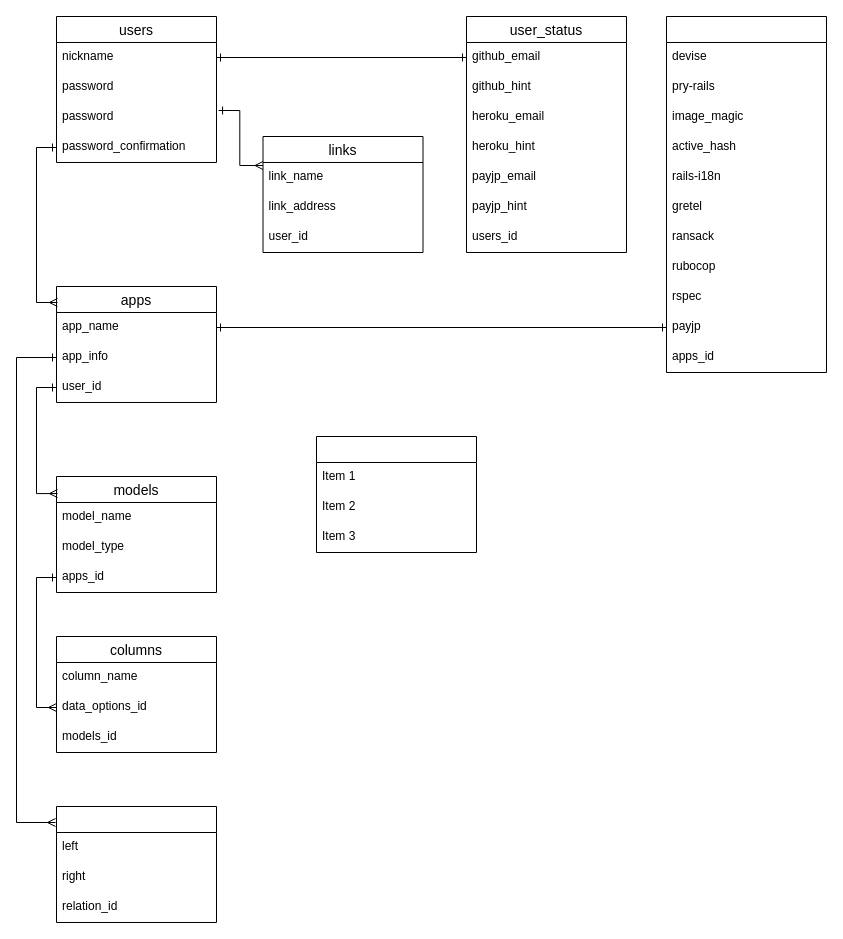
Some shapes in this 843 by 939 pixel diagram are drawn without their labels. The box of each missing label's shape, as (x1, y1, x2, y2) in pixels:
associations: (56, 806, 216, 922)
controllers: (316, 436, 476, 552)
gem_lists: (666, 16, 826, 372)
